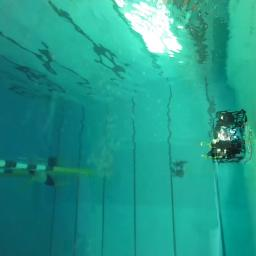Full: (206, 134, 252, 164), (170, 159, 189, 179)
